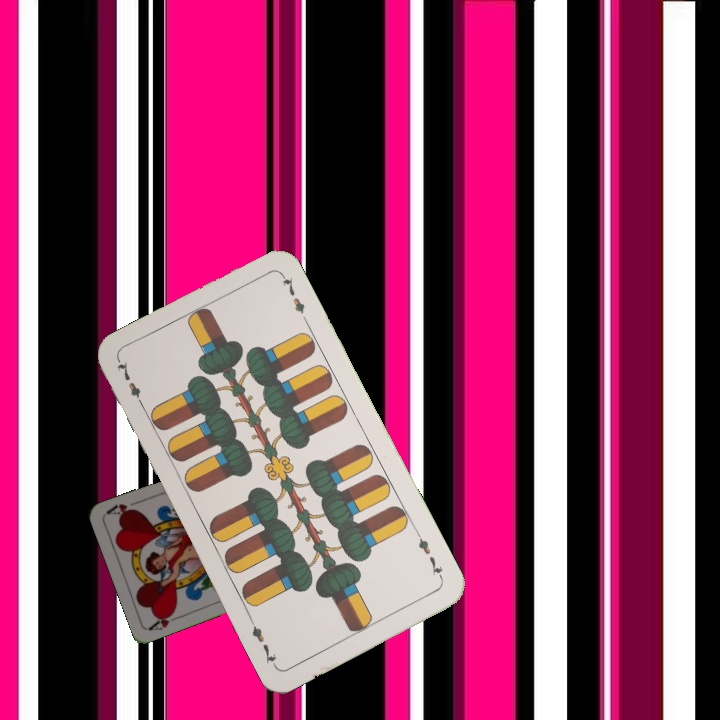E7: (112, 357, 148, 411), (412, 528, 446, 582)
HA: (145, 607, 185, 633)
